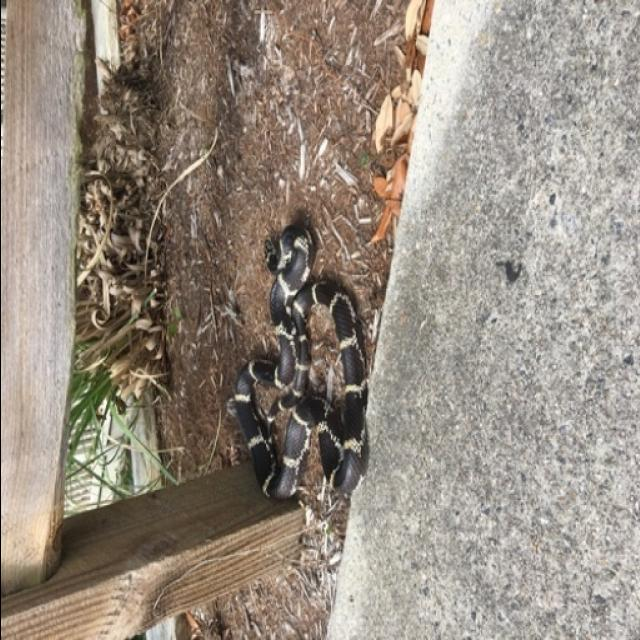snake: (223, 217, 381, 537)
